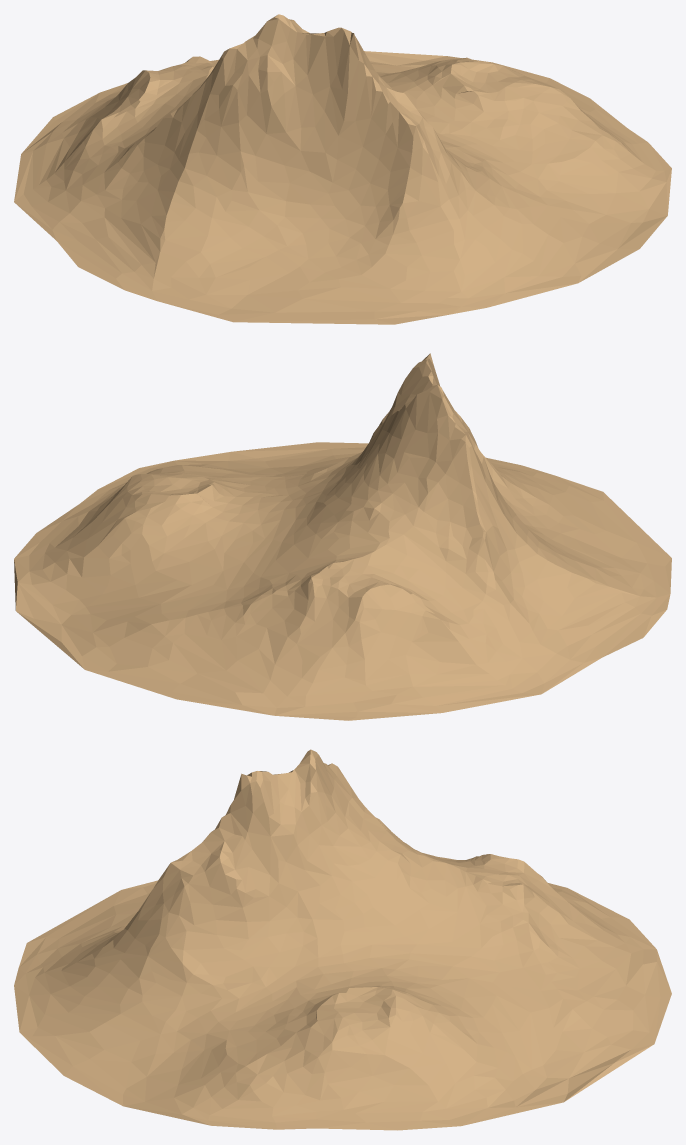
The model's file is MT_Mountain_L_d_05.fbx.
The picture shows the model from 3 angles, top to bottom: view 1: azimuth 30°, elevation 25°; view 2: azimuth 150°, elevation 25°; view 3: azimuth 270°, elevation 25°; orthographic projection.
Visible parts, largest first — view 1: MT_Mountain_L_d_05; view 2: MT_Mountain_L_d_05; view 3: MT_Mountain_L_d_05.
Boxes of the visible parts, left/top/right/bottom form: MT_Mountain_L_d_05: left=14, top=14, right=671, bottom=324; MT_Mountain_L_d_05: left=14, top=353, right=671, bottom=720; MT_Mountain_L_d_05: left=14, top=749, right=671, bottom=1130.
Size of the model in its own units: 9654 by 3430 by 9727.
